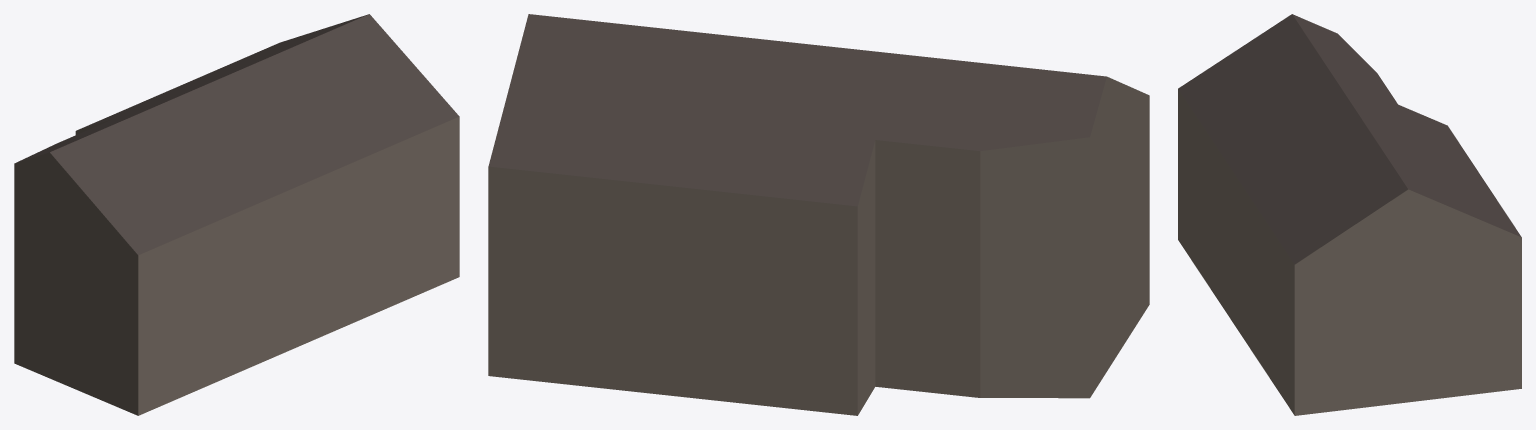
3 views of the same model, side by side, from view 1: azimuth 30°, elevation 25°; view 2: azimuth 150°, elevation 25°; view 3: azimuth 270°, elevation 25° (orthographic). The views are drawn at different scales.
Visible parts, largest first — view 1: HP-w1322077248; view 2: HP-w1322077248; view 3: HP-w1322077248.
Part boxes in pixels (bbox=[...]): HP-w1322077248: bbox=[14, 14, 459, 415]; HP-w1322077248: bbox=[488, 14, 1149, 415]; HP-w1322077248: bbox=[1178, 14, 1521, 415].
Bounding box in the file's own units: 24.77 × 12.68 × 18.55.
